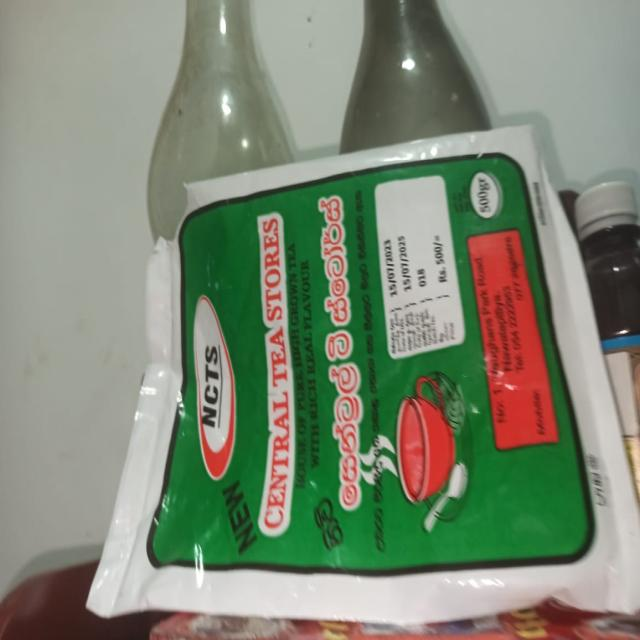Central Tea: (126, 194, 582, 597)
